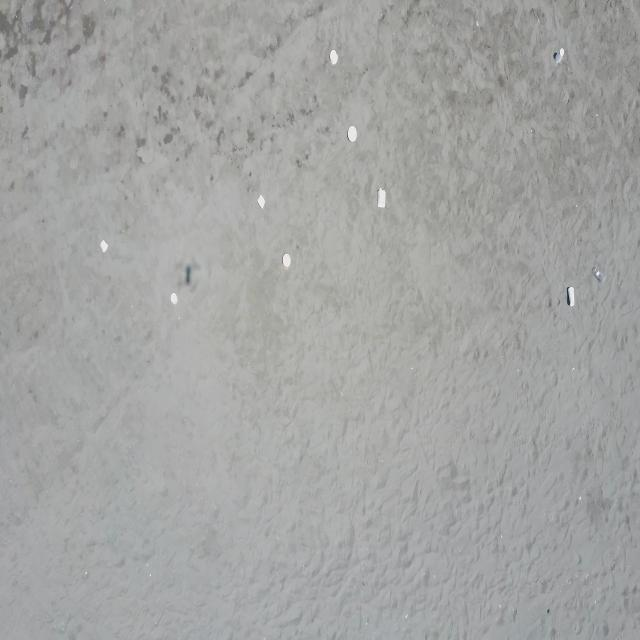take-away-containers: (377, 188, 386, 209), (347, 125, 358, 142), (282, 253, 292, 270), (257, 194, 266, 209), (330, 50, 338, 65), (100, 240, 108, 253), (171, 292, 178, 304)
takeaway-cup: (593, 266, 606, 283), (568, 286, 575, 308), (556, 48, 564, 62)
